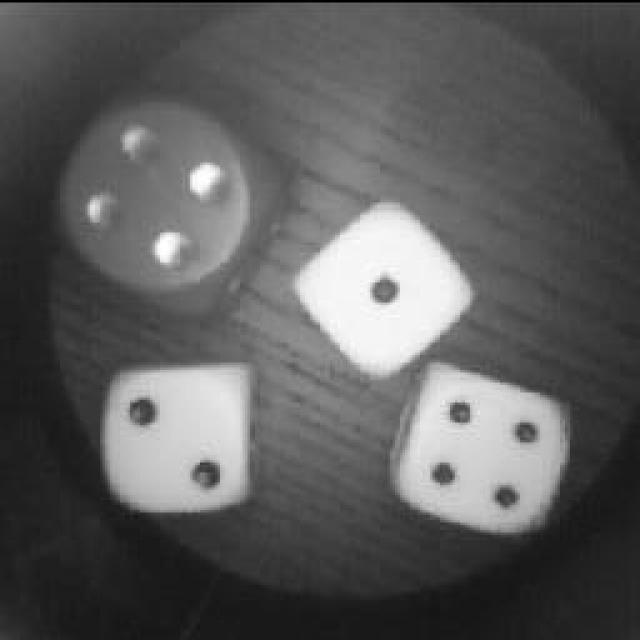dice_1: (290, 190, 472, 380)
dice_2: (95, 348, 270, 522)
dice_4: (42, 73, 298, 315), (385, 350, 577, 542)
